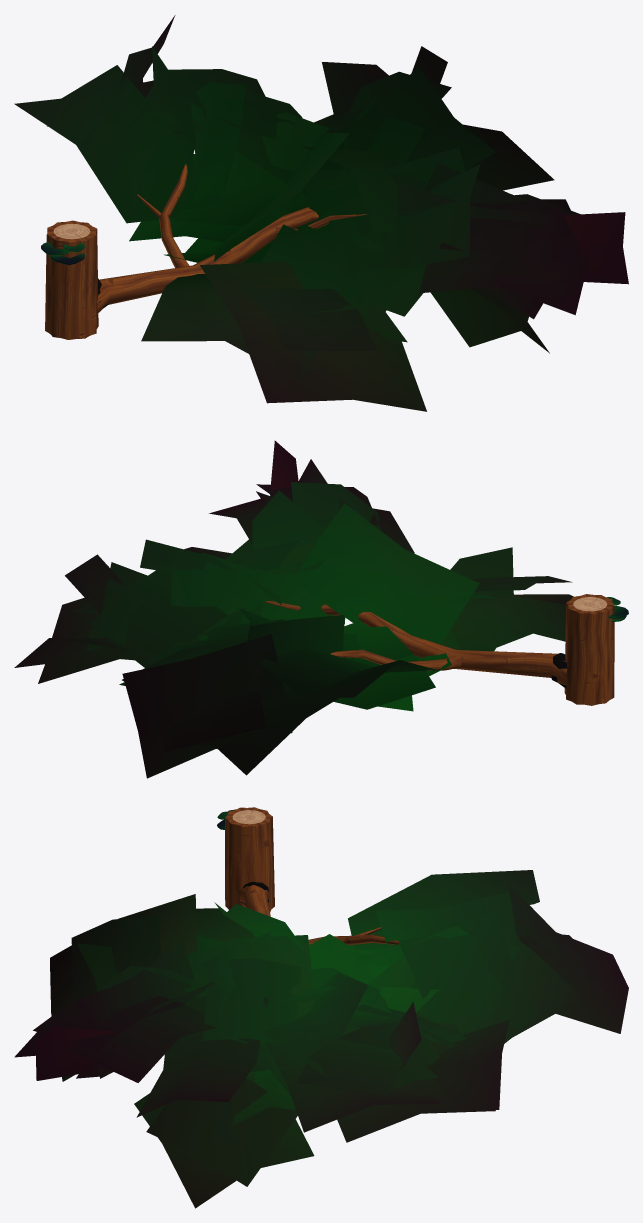
Rendered from obj_harvests_trees_pine02_p07.fbx.
3 views of the same model, one above another, from view 1: azimuth 30°, elevation 25°; view 2: azimuth 150°, elevation 25°; view 3: azimuth 270°, elevation 25° (orthographic). The views are drawn at different scales.
Parts seen in each view (by area): view 1: chunk07; view 2: chunk07; view 3: chunk07.
Boxes of the visible parts, box(x1,y1,x2,y2) form: chunk07: box(14, 15, 628, 411); chunk07: box(14, 440, 628, 778); chunk07: box(14, 807, 628, 1208).
Size of the model in its own units: 46.9 by 20.3 by 50.14.
